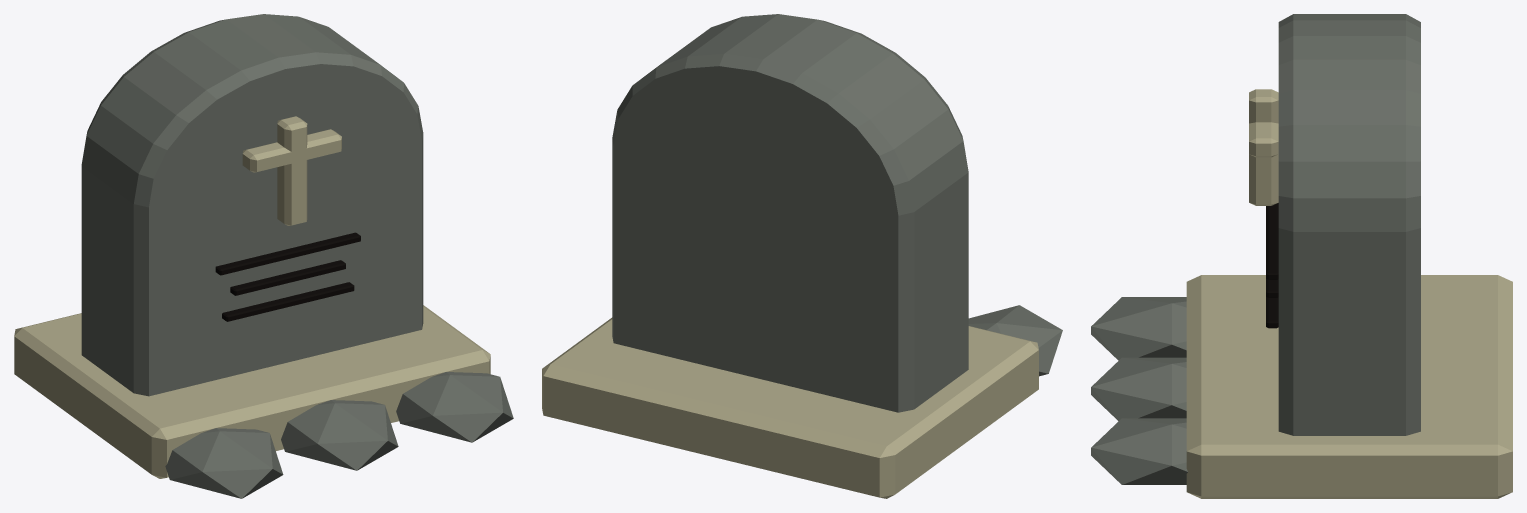
Rendered from gravestone.obj.
3 renders of one model, left to right at view 1: azimuth 30°, elevation 25°; view 2: azimuth 150°, elevation 25°; view 3: azimuth 270°, elevation 25°, orthographic. The views are drawn at different scales.
Parts seen in each view (by area): view 1: gravestone; view 2: gravestone; view 3: gravestone.
Part boxes in pixels (<box>): gravestone: <box>14,14,513,498</box>; gravestone: <box>542,14,1062,498</box>; gravestone: <box>1091,14,1512,498</box>.
Bounding box in the file's own units: 1 × 1 × 1.
